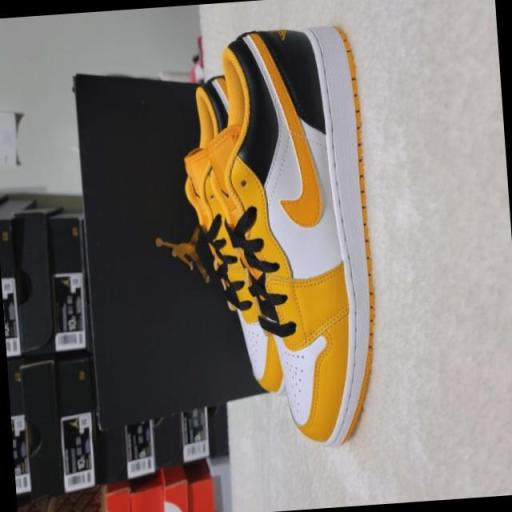Nike: (247, 39, 332, 232)
